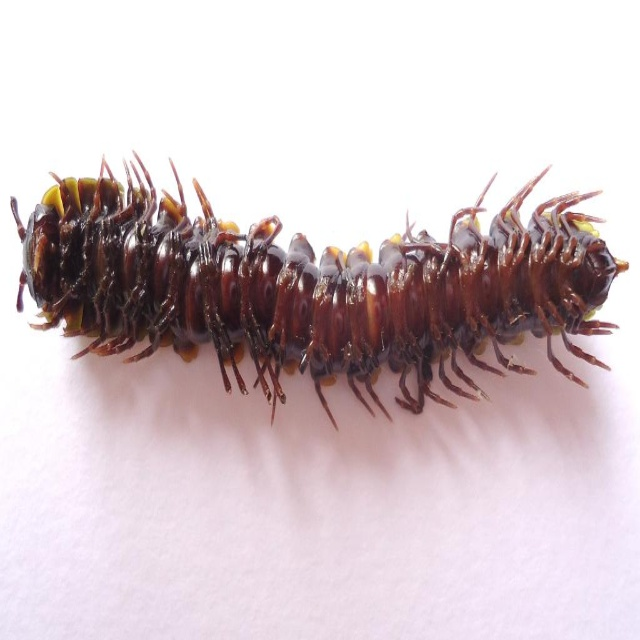Centipede: (10, 148, 629, 431)
